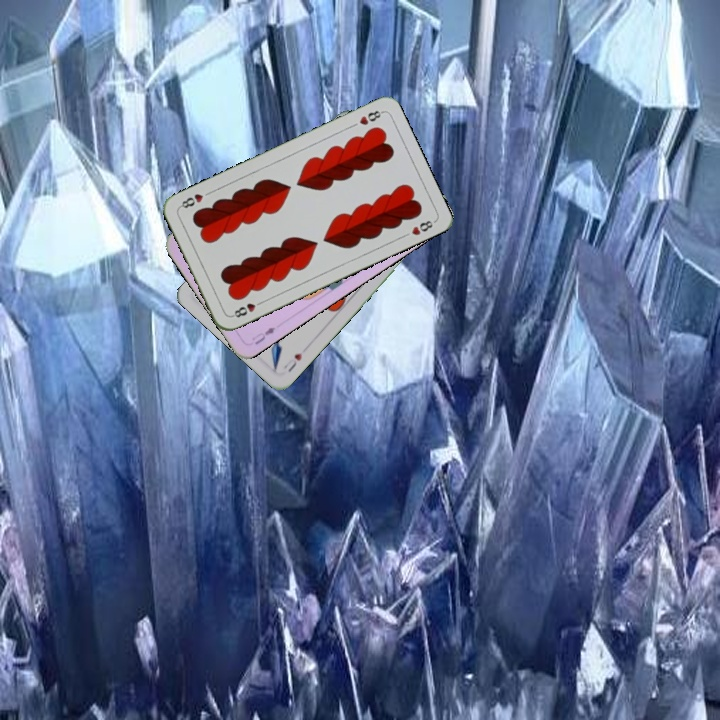EU: (248, 323, 278, 347)
H8: (228, 297, 266, 320), (355, 106, 385, 128)
HU: (280, 349, 305, 375)
